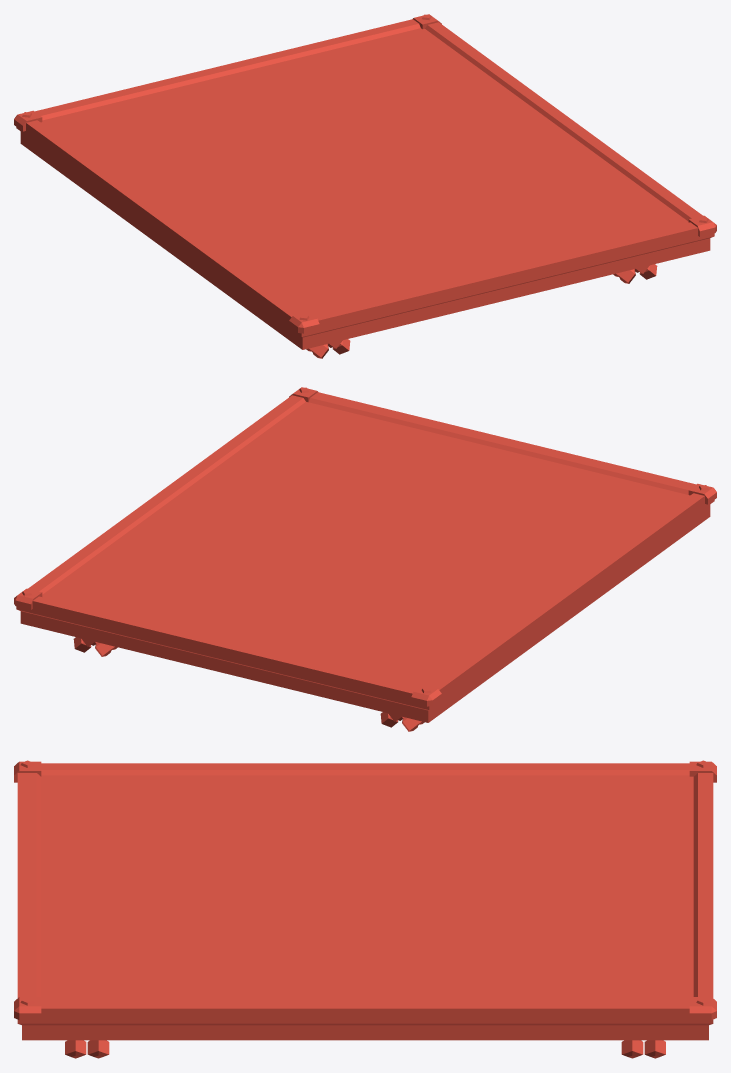
The model's file is SM_Dolly_Platform.fbx.
3 views of the same model, one above another, from view 1: azimuth 30°, elevation 25°; view 2: azimuth 150°, elevation 25°; view 3: azimuth 270°, elevation 25° (orthographic). The views are drawn at different scales.
Parts seen in each view (by area): view 1: SM_Dolly_Platform; view 2: SM_Dolly_Platform; view 3: SM_Dolly_Platform.
Part boxes in pixels (x1,y1,x2,y2): SM_Dolly_Platform: (14,14,716,358); SM_Dolly_Platform: (14,387,716,731); SM_Dolly_Platform: (14,760,716,1058).
Bounding box in the file's own units: 97.69 × 81.92 × 12.3.
